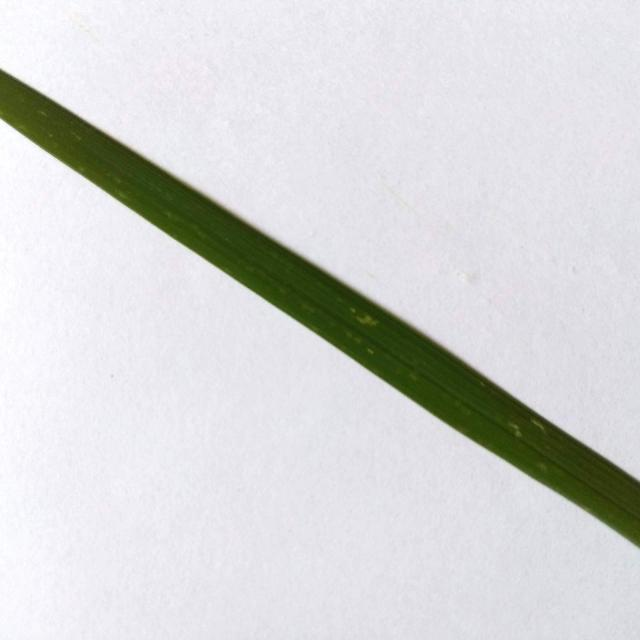healthy: (0, 49, 640, 554)
